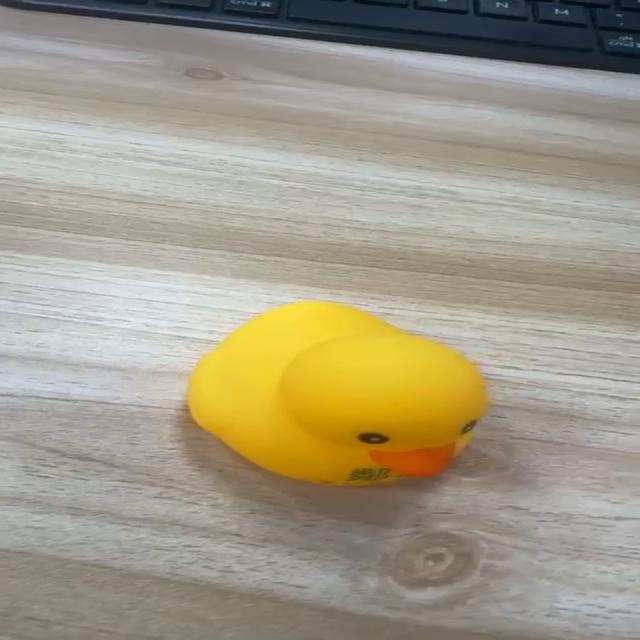yellow_duck: (184, 298, 491, 487)
